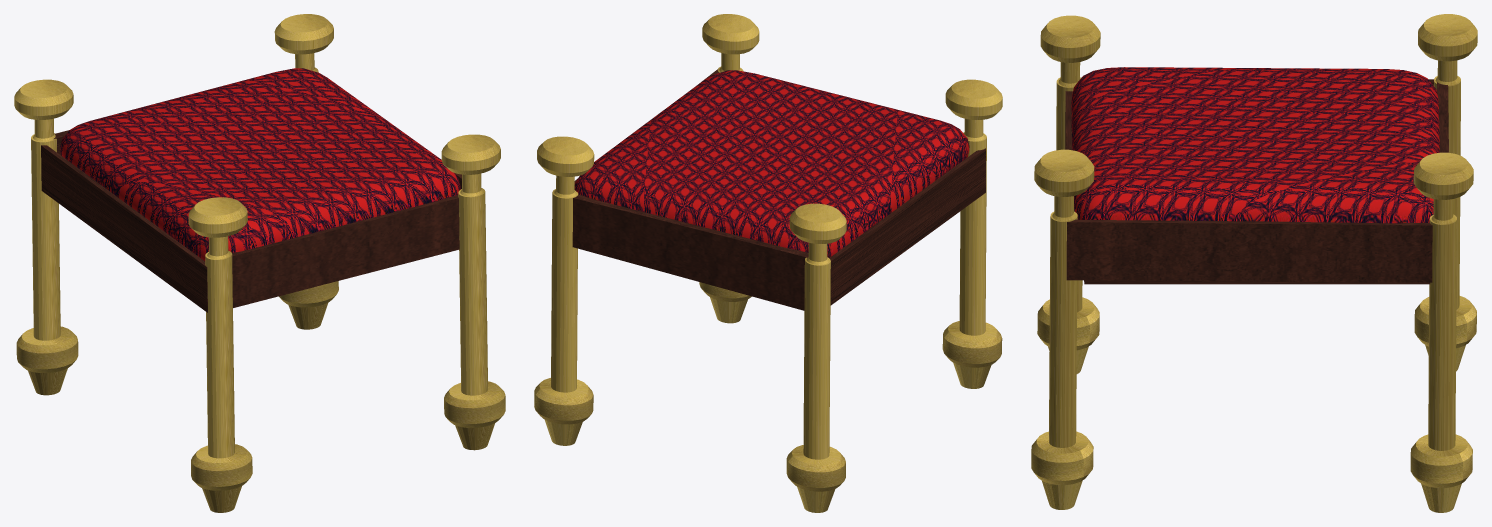
The model's file is Sofa chair guest room.fbx.
3 renders of one model, left to right at view 1: azimuth 30°, elevation 25°; view 2: azimuth 150°, elevation 25°; view 3: azimuth 270°, elevation 25°, orthographic. The views are drawn at different scales.
Parts seen in each view (by area): view 1: polySurface1324, polySurface1325, polySurface1331, polySurface1332, polySurface1329, polySurface1326, polySurface1328; view 2: polySurface1324, polySurface1327, polySurface1329, polySurface1328, polySurface1332, polySurface1326, polySurface1331; view 3: polySurface1324, polySurface1330, polySurface1328, polySurface1331, polySurface1329, polySurface1332, polySurface1347, polySurface1327.
Boxes of the visible parts, left/top/right/bottom form: polySurface1324: left=60, top=68, right=460, bottom=261; polySurface1325: left=232, top=195, right=459, bottom=307; polySurface1331: left=441, top=134, right=505, bottom=450; polySurface1332: left=188, top=197, right=252, bottom=512; polySurface1329: left=14, top=79, right=78, bottom=395; polySurface1326: left=41, top=145, right=207, bottom=312; polySurface1328: left=274, top=14, right=338, bottom=329; polySurface1324: left=574, top=70, right=969, bottom=257; polySurface1327: left=572, top=194, right=808, bottom=310; polySurface1329: left=786, top=203, right=846, bottom=512; polySurface1328: left=534, top=136, right=594, bottom=445; polySurface1332: left=942, top=79, right=1002, bottom=388; polySurface1326: left=829, top=148, right=985, bottom=305; polySurface1331: left=699, top=14, right=759, bottom=323; polySurface1324: left=1071, top=67, right=1439, bottom=223; polySurface1330: left=1066, top=219, right=1432, bottom=282; polySurface1328: left=1410, top=152, right=1473, bottom=512; polySurface1331: left=1031, top=149, right=1094, bottom=509; polySurface1329: left=1414, top=14, right=1477, bottom=371; polySurface1332: left=1037, top=15, right=1100, bottom=373; polySurface1347: left=1084, top=280, right=1430, bottom=284; polySurface1327: left=1437, top=82, right=1448, bottom=152.
Size of the model in its own units: 156 by 146 by 169.
